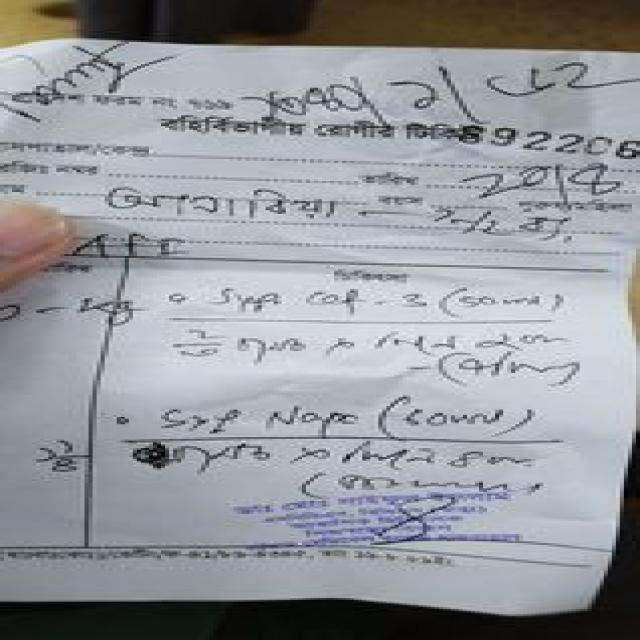Cef-3: (295, 290, 439, 317)
Napa: (254, 400, 376, 438)
